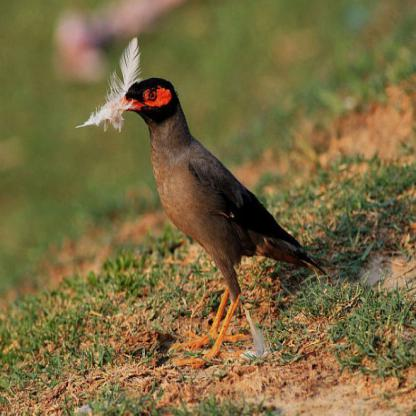Burung: (106, 75, 326, 361)
